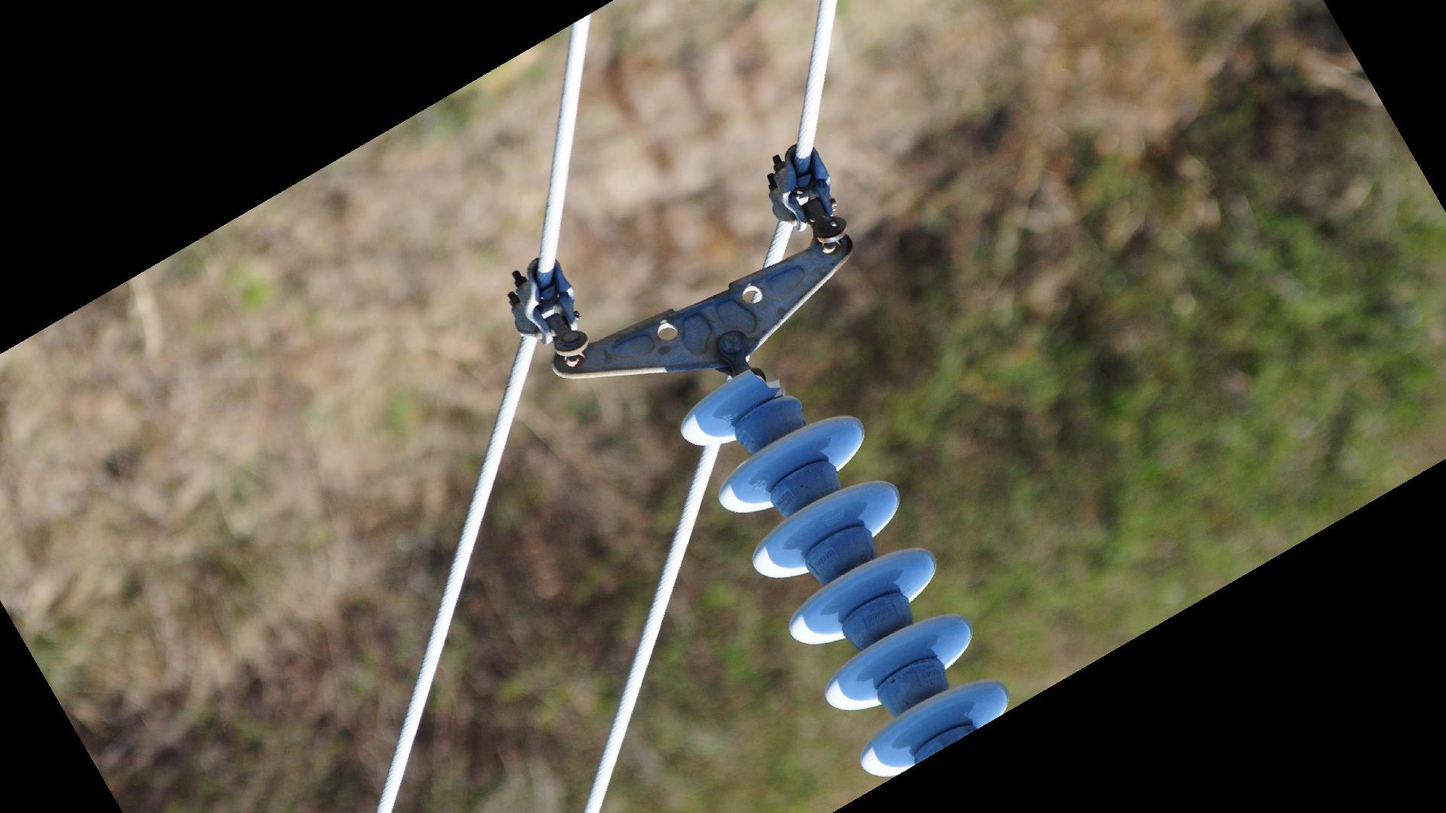insulator: (674, 363, 1014, 782)
insulator_breakage: (740, 364, 789, 400)
